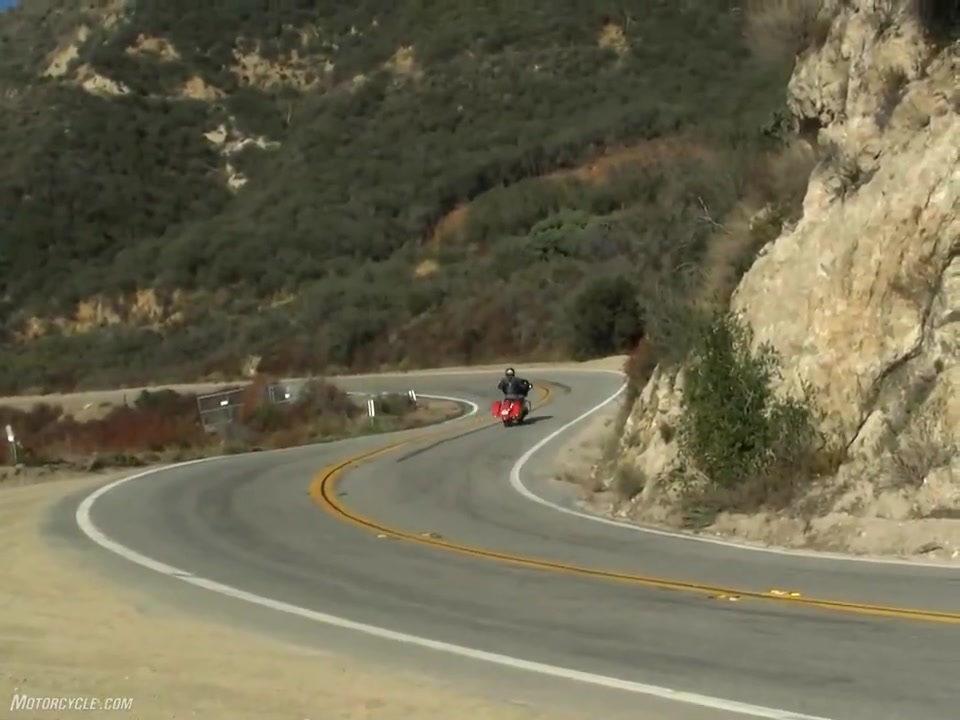motorbike: (494, 391, 535, 430)
